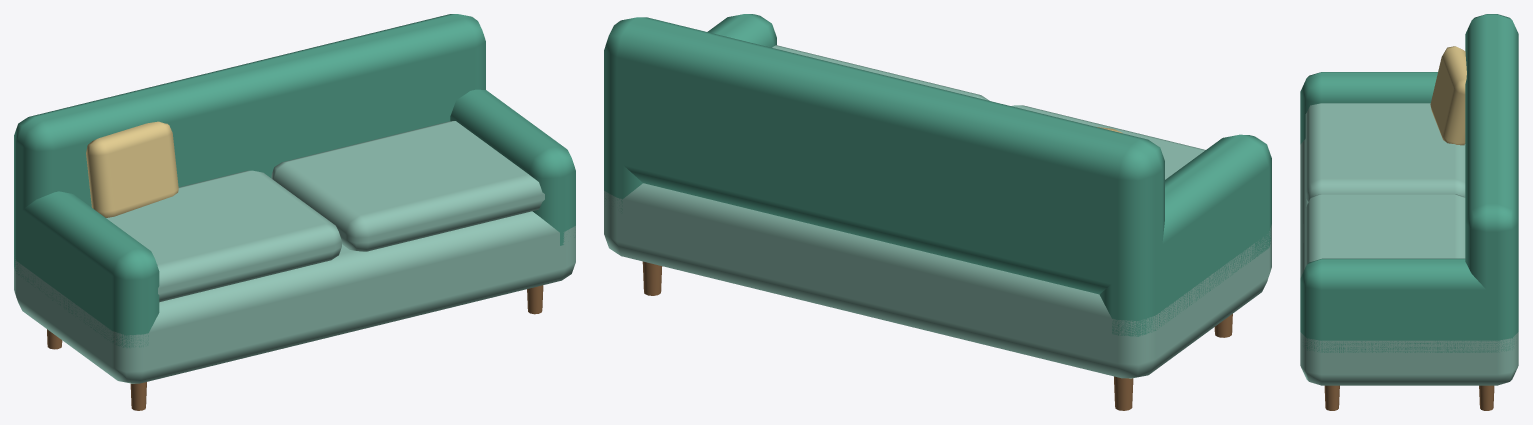
Rendered from furn_sofa_ph.glb.
3 views of the same model, side by side, from view 1: azimuth 30°, elevation 25°; view 2: azimuth 150°, elevation 25°; view 3: azimuth 270°, elevation 25° (orthographic). The views are drawn at different scales.
Visible parts, largest first — view 1: furn_sofa; view 2: furn_sofa; view 3: furn_sofa.
Part boxes in pixels (x1,y1,x2,y2): furn_sofa: [14, 14, 575, 410]; furn_sofa: [604, 14, 1271, 410]; furn_sofa: [1300, 14, 1518, 410].
Bounding box in the file's own units: 1.84 × 0.87 × 0.82.
